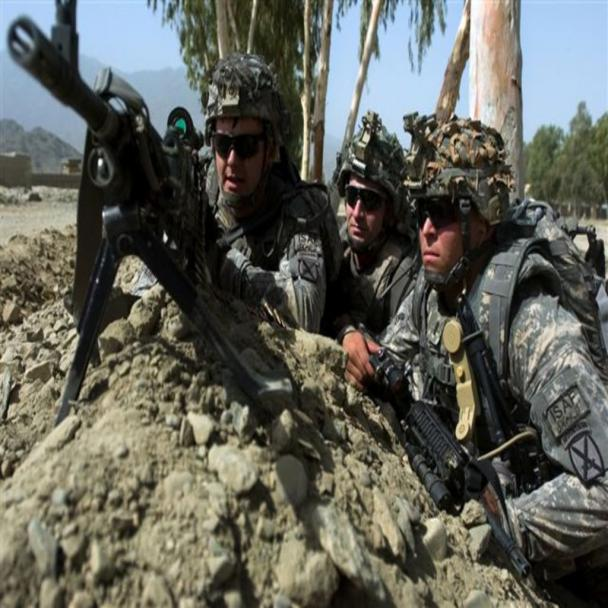Gun: (6, 3, 218, 349), (371, 342, 526, 574)
Hand: (342, 322, 382, 389)
